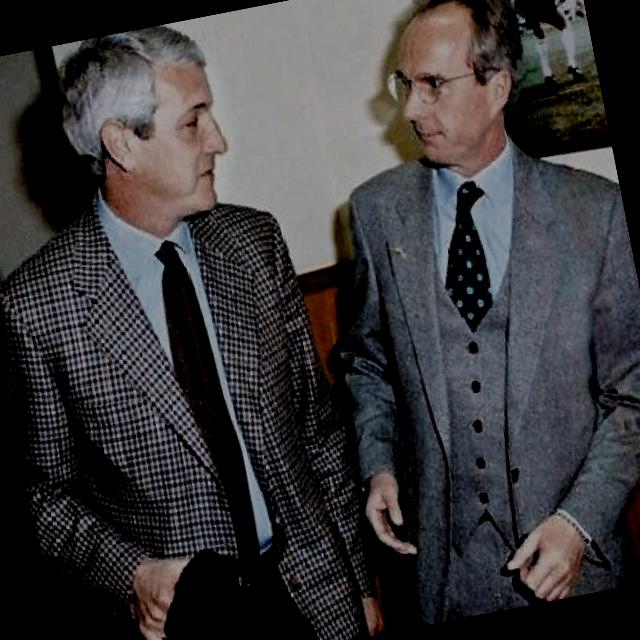Person: (0, 3, 394, 640), (262, 0, 640, 632)
